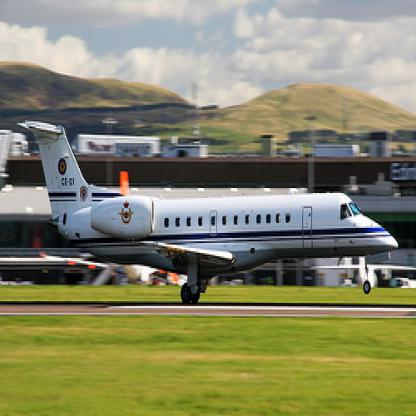aeroplane: (17, 117, 400, 304)
